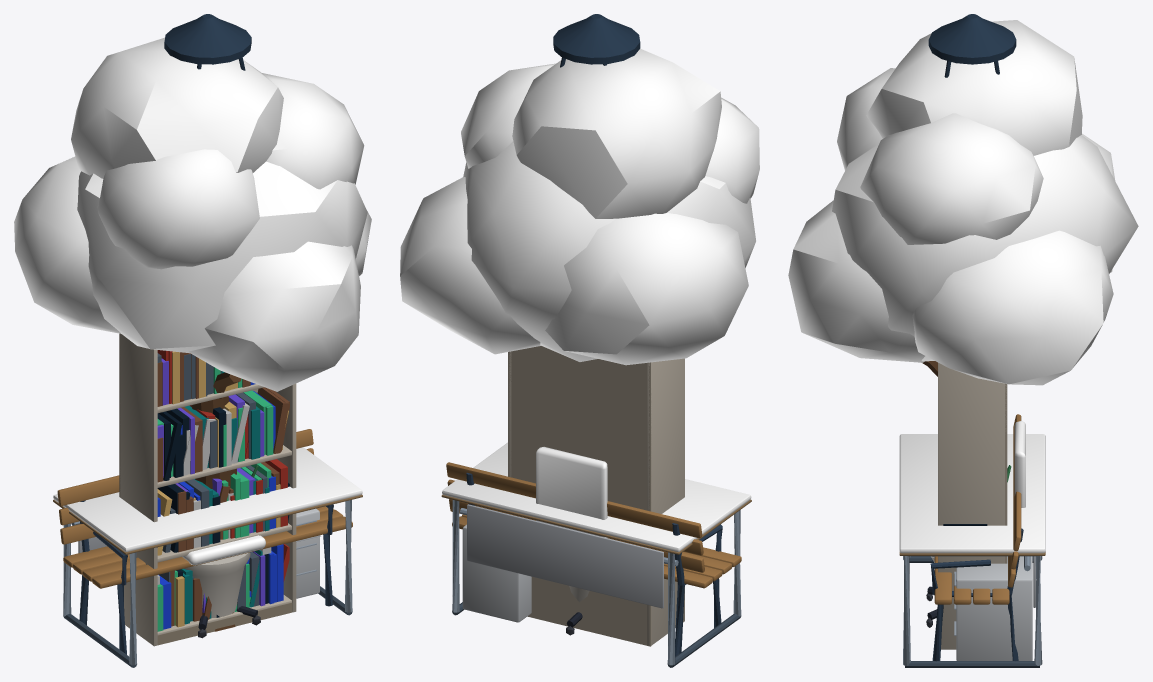
The model's file is kit.glb.
3 renders of one model, left to right at view 1: azimuth 30°, elevation 25°; view 2: azimuth 150°, elevation 25°; view 3: azimuth 270°, elevation 25°, orthographic.
Visible parts, largest first — view 1: tree, shelf, desk, shelf_c, shelf_b, bench, lamp, plant, chair; view 2: tree, shelf, desk, bench, chair, lamp; view 3: tree, desk, shelf, bench, lamp, chair.
Part boxes in pixels (box(x1,y1,x2,y2)): tree: box(14, 37, 371, 631); shelf: box(119, 333, 296, 646); desk: box(53, 447, 362, 667); shelf_c: box(157, 351, 289, 631); shelf_b: box(157, 351, 289, 625); bench: box(57, 429, 352, 654); lamp: box(164, 14, 251, 70); plant: box(184, 465, 258, 617); chair: box(182, 535, 265, 638); tree: box(400, 48, 759, 630); shelf: box(508, 346, 684, 646); desk: box(441, 442, 751, 667); bench: box(446, 462, 741, 656); chair: box(536, 446, 607, 635); lamp: box(553, 14, 640, 67); tree: box(788, 20, 1138, 385); desk: box(899, 434, 1045, 667); shelf: box(938, 362, 1007, 649); bench: box(930, 414, 1023, 661); lamp: box(928, 14, 1016, 77); chair: box(926, 421, 1025, 627).
Bounding box in the file's own units: 2.03 × 3.62 × 1.92.
